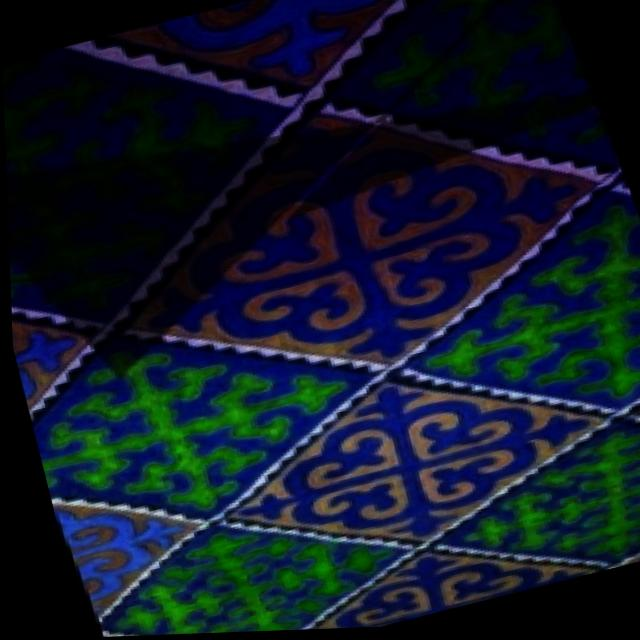Unity: (134, 109, 584, 360), (233, 380, 599, 539), (315, 554, 602, 629), (51, 503, 187, 613)
